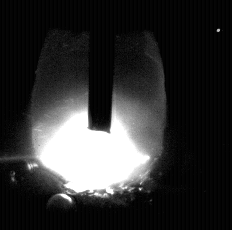arame: (88, 0, 113, 133)
poca: (32, 0, 164, 230)
